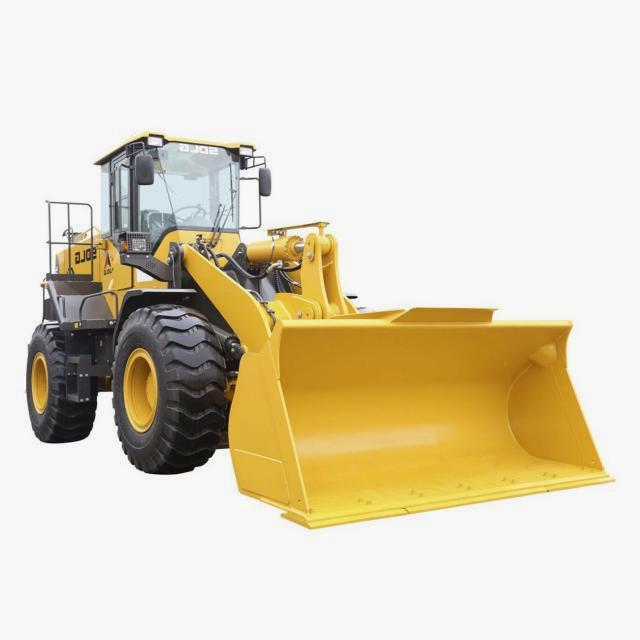machinery: (20, 120, 623, 534)
